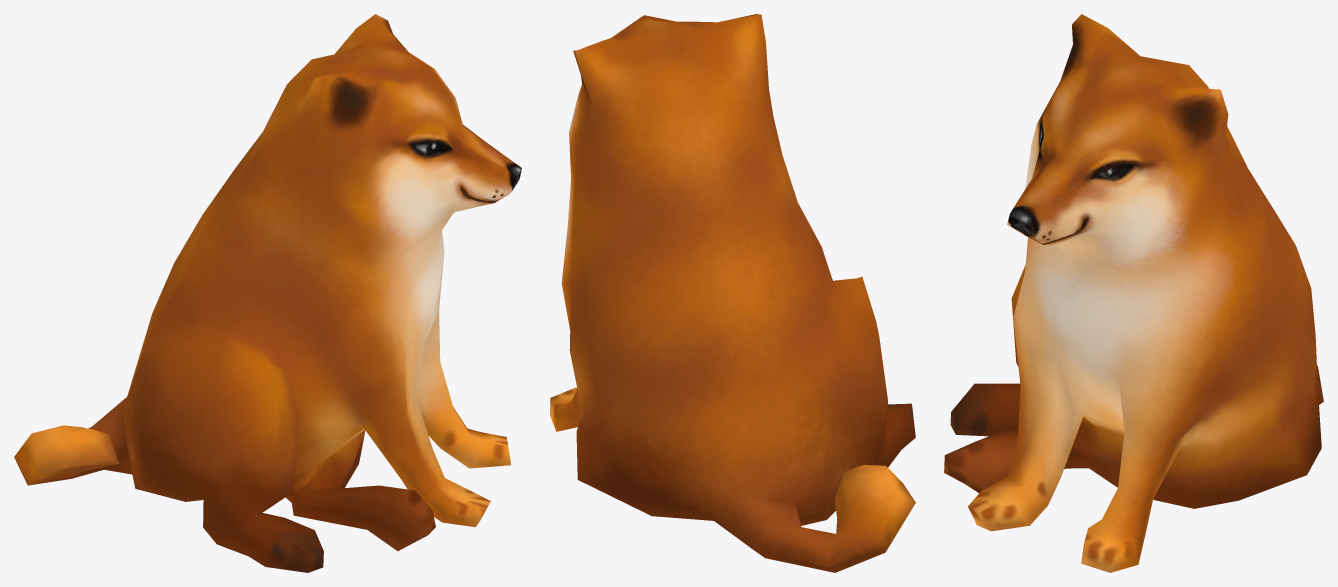
Rendered from doggy.gltf.
3 renders of one model, left to right at view 1: azimuth 30°, elevation 25°; view 2: azimuth 150°, elevation 25°; view 3: azimuth 270°, elevation 25°, orthographic. The views are drawn at different scales.
Parts seen in each view (by area): view 1: Doggy_0; view 2: Doggy_0; view 3: Doggy_0.
Part boxes in pixels (box(x1,y1,x2,y2)): Doggy_0: box(14, 14, 521, 572); Doggy_0: box(550, 14, 915, 572); Doggy_0: box(944, 14, 1323, 572).
Size of the model in its own units: 1.49 by 1.53 by 1.13.
1 material, 1 textured.
